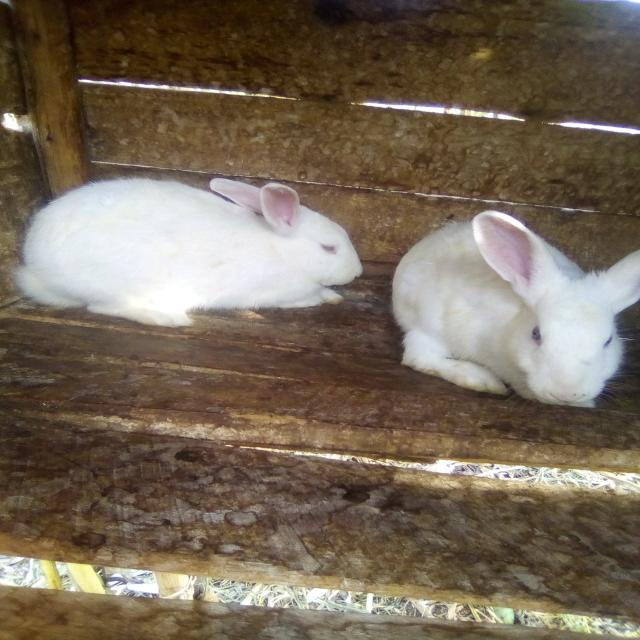rabbit: (4, 24, 640, 593)
